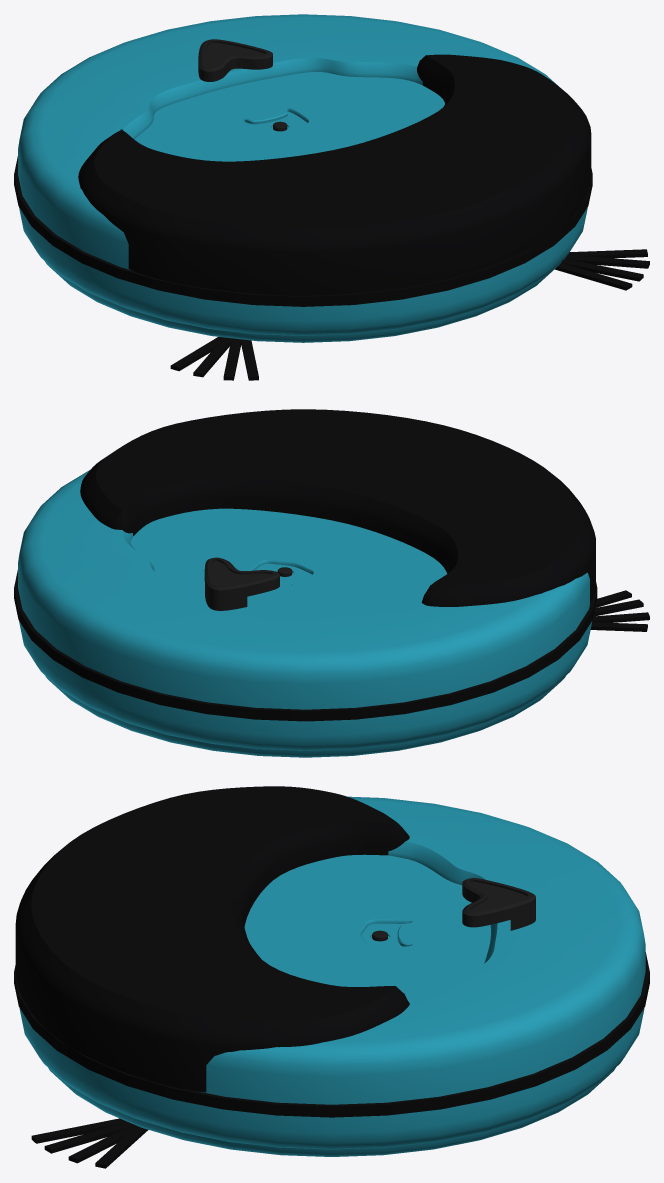
Rendered from main ch blue.FBX.
The picture shows the model from 3 angles, top to bottom: view 1: azimuth 30°, elevation 25°; view 2: azimuth 150°, elevation 25°; view 3: azimuth 270°, elevation 25°; orthographic projection. The views are drawn at different scales.
Visible parts, largest first — view 1: robot main character002, eyes robot002, screen robot withoyt eyes002, robo brush 004, robo brush 1 002; view 2: robot main character002, eyes robot002, screen robot withoyt eyes002, robo brush 1 002; view 3: robot main character002, eyes robot002, screen robot withoyt eyes002, robo brush 004.
Boxes of the visible parts, <box> form: robot main character002: <box>14,14,592,342</box>; eyes robot002: <box>94,54,576,228</box>; screen robot withoyt eyes002: <box>78,55,591,295</box>; robo brush 004: <box>555,249,649,290</box>; robo brush 1 002: <box>170,337,258,380</box>; robot main character002: <box>14,470,597,757</box>; eyes robot002: <box>96,409,580,585</box>; screen robot withoyt eyes002: <box>80,456,595,606</box>; robo brush 1 002: <box>590,590,649,631</box>; robot main character002: <box>14,796,649,1156</box>; eyes robot002: <box>31,786,395,1021</box>; screen robot withoyt eyes002: <box>15,817,409,1092</box>; robo brush 004: <box>31,1118,148,1168</box>.
Size of the model in its own units: 667 by 165 by 667.
